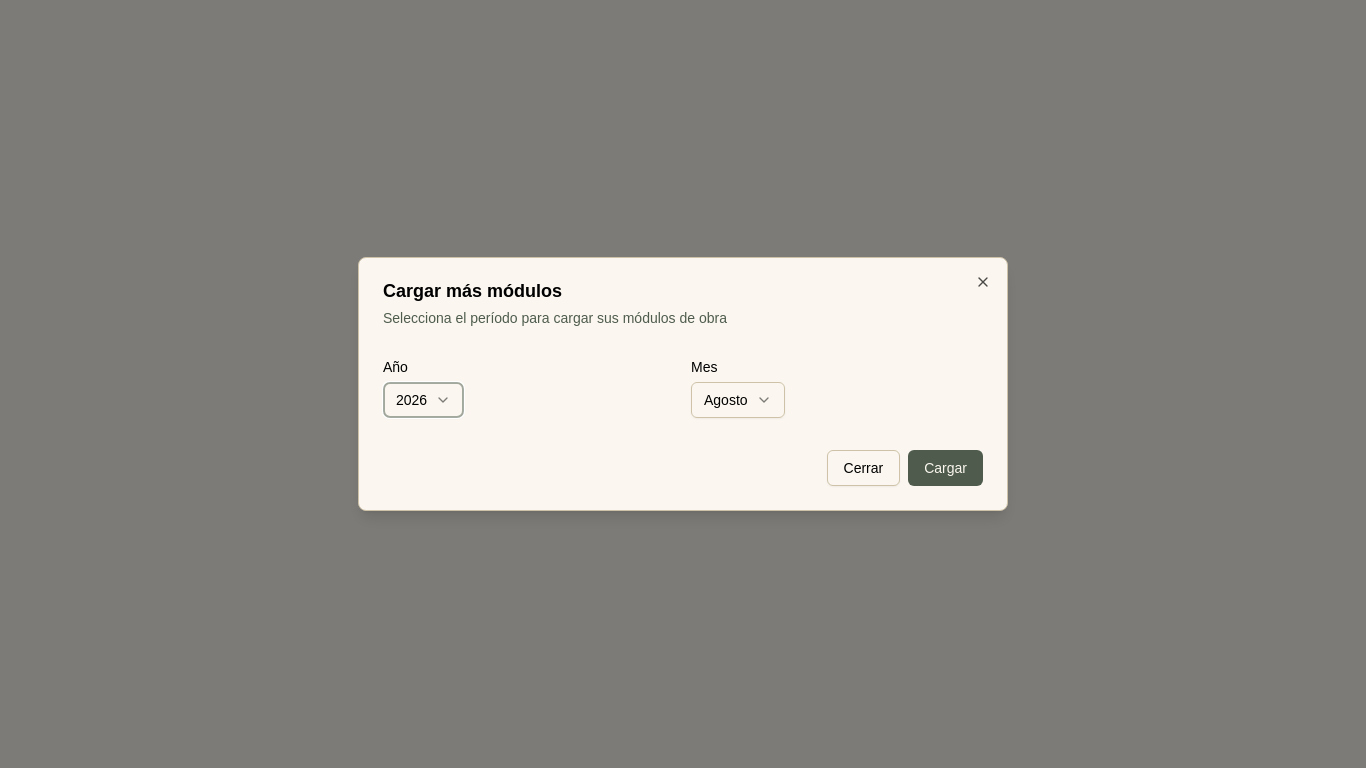
LoadMoreModulesModal › shows "No hay módulos" when results are empty
The width and height of the screenshot is (1366, 768).
Click the button "Cargar" at (946, 468), box [908,450,983,486]
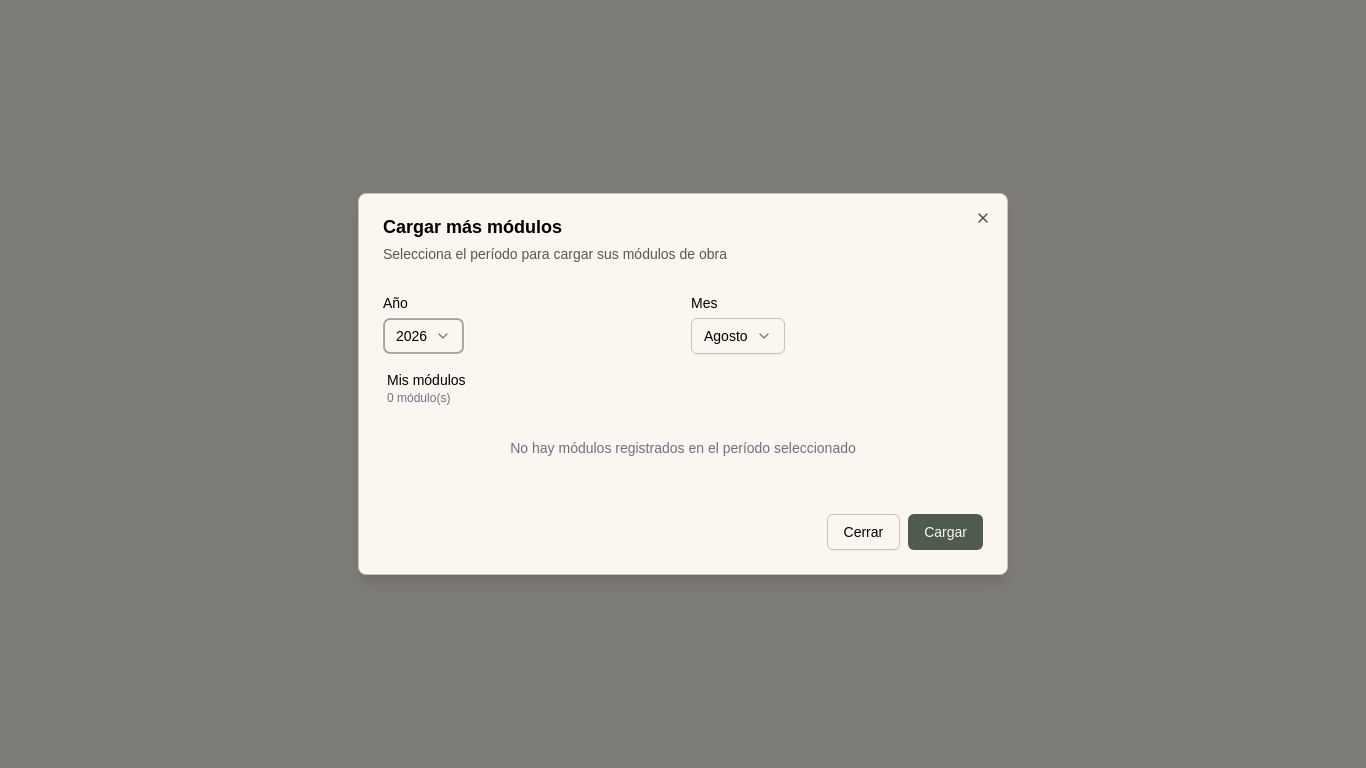
Now the text "No hay módulos registrados en el período seleccionado" is shown, box [510,440,856,456]
